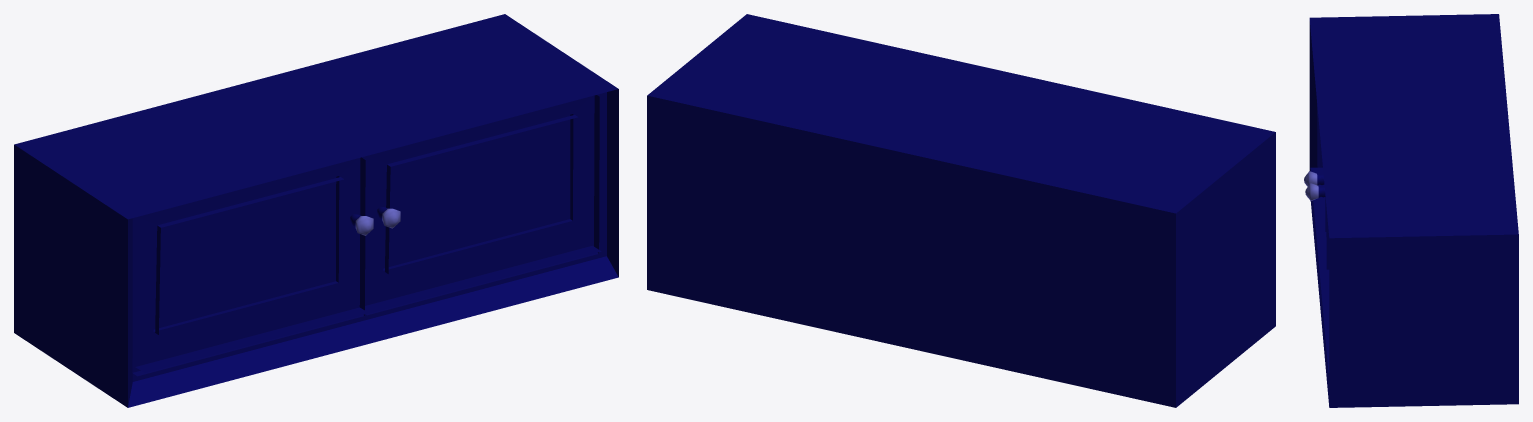
The model's file is TV-stand.glb.
3 renders of one model, left to right at view 1: azimuth 30°, elevation 25°; view 2: azimuth 150°, elevation 25°; view 3: azimuth 270°, elevation 25°, orthographic. The views are drawn at different scales.
Visible parts, largest first — view 1: TV stand; view 2: TV stand; view 3: TV stand.
Boxes of the visible parts, x1,y1,x2,y2 form: TV stand: (14,14,618,407); TV stand: (647,14,1275,407); TV stand: (1304,14,1518,407).
Bounding box in the file's own units: 8.72 × 3.08 × 3.53.
1 material, 1 textured.
